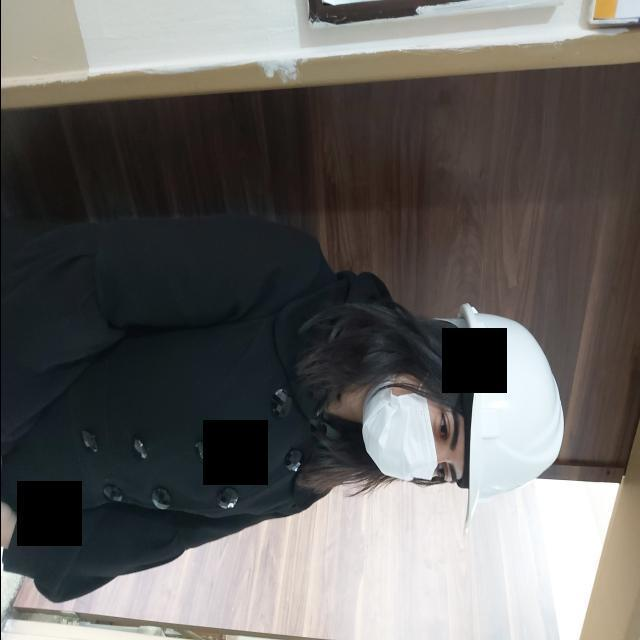helmet: (431, 302, 565, 533)
